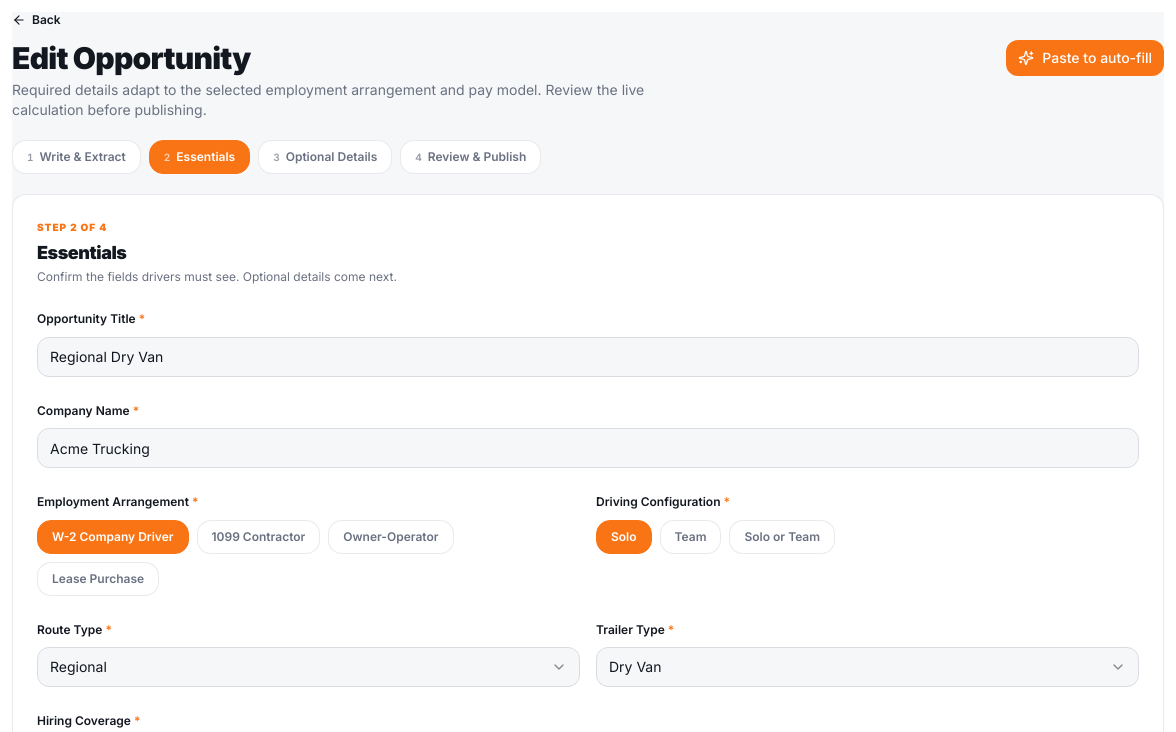
Test: Phase 1O-A — review composition (checklist + driver preview) › publication checklist success banner appears when there are zero blockers
Step 1. Click the tab "4Review & Publish" → (471, 157), box [400, 140, 541, 174]
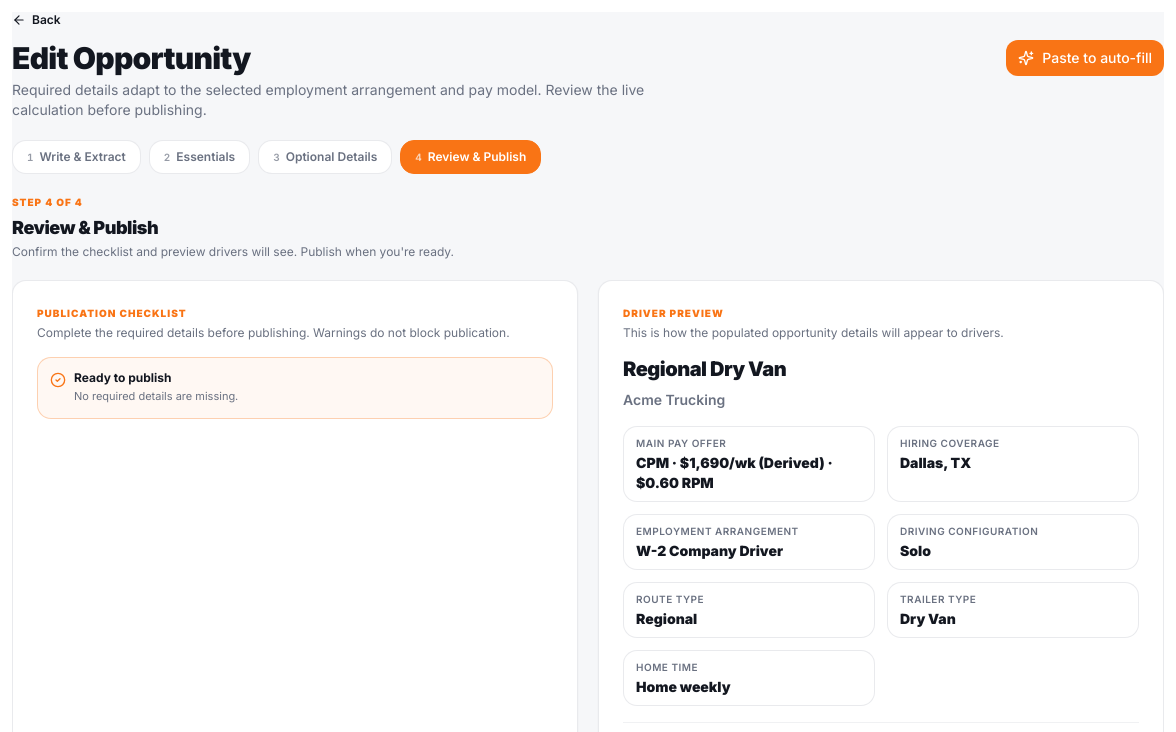
Result: the element with test id "publish-ok" is shown at [37, 357, 553, 419]
